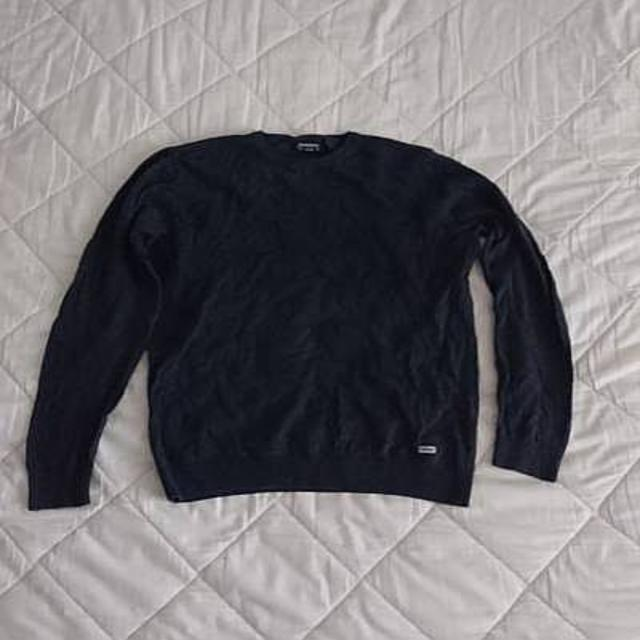SHIRT: (15, 124, 608, 519)
